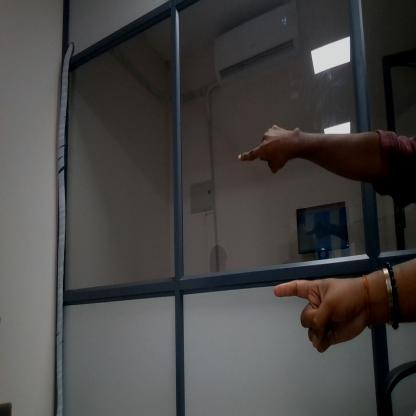Right: (268, 266, 362, 360), (217, 106, 298, 184)
